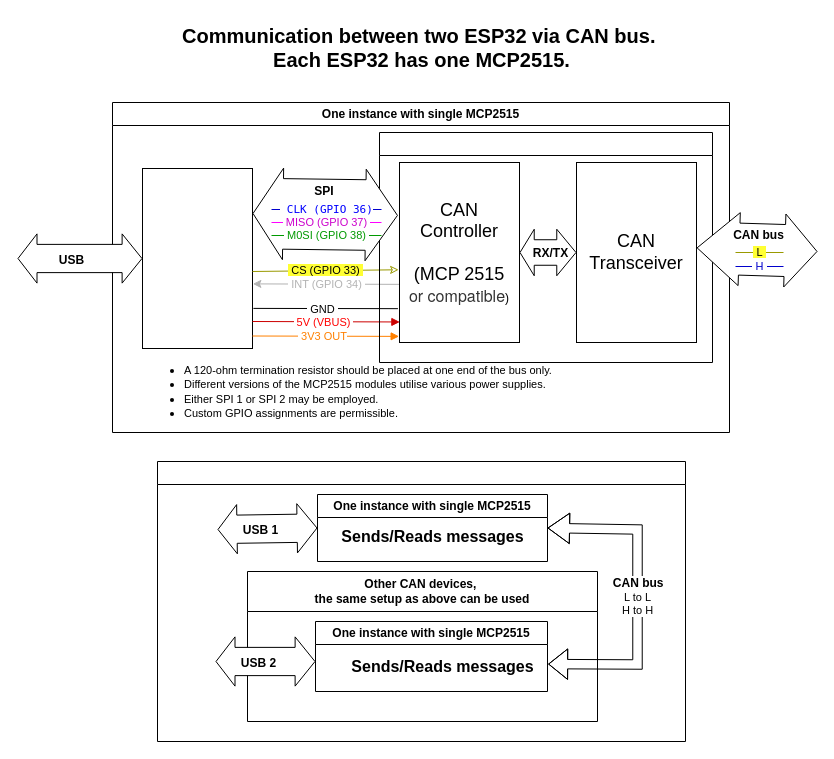
This 834x759 diagram has some shape labels left out. The box of each missing label's shape, as (x1, y1, x2, y2) in pixels:
CAN module (like MCP 25625): (378, 132, 712, 362)
ESP32: (142, 168, 252, 348)
Example of communication for two ESP32 with a single MCP2515: (156, 460, 686, 742)
